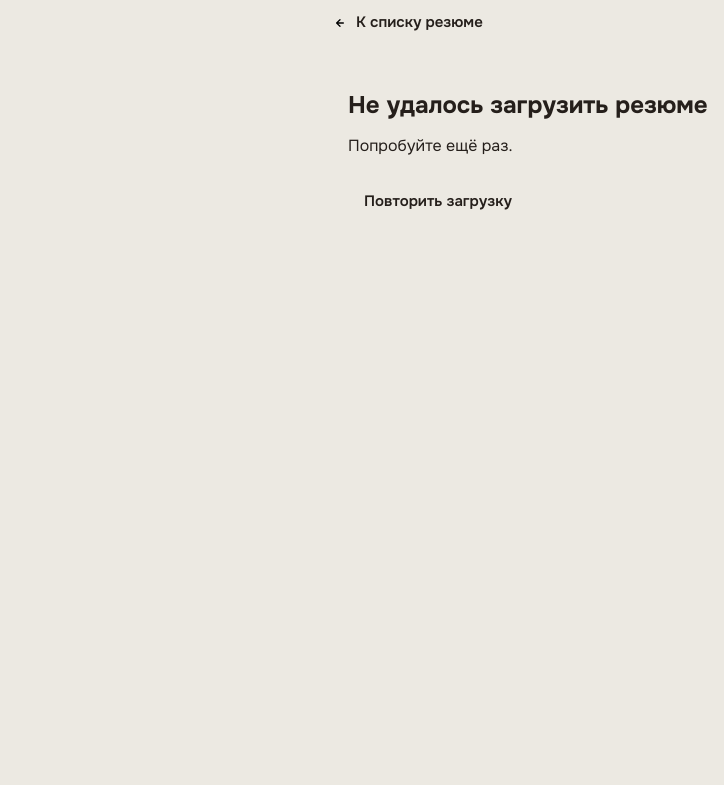
Scenario: temporary failure offers retry rather than a false missing-resume screen
The image size is (724, 785).
Check: the heading "Не удалось загрузить резюме" is shown, box [348,90,708,120]
Click the button "Повторить загрузку" at x=438, y=201, box [348,179,528,223]
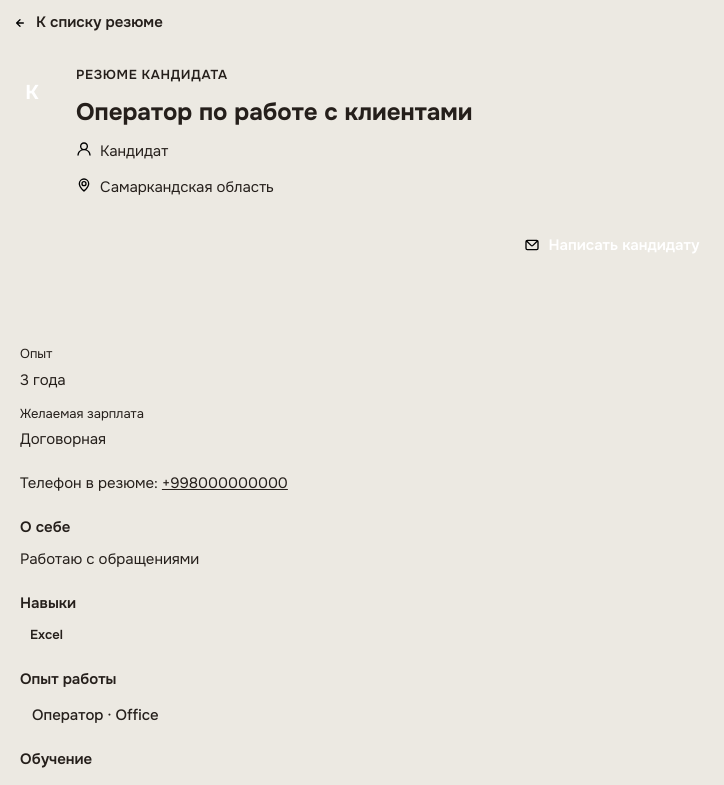
Check: the link "+998000000000" is shown, box [162,473,288,493]
